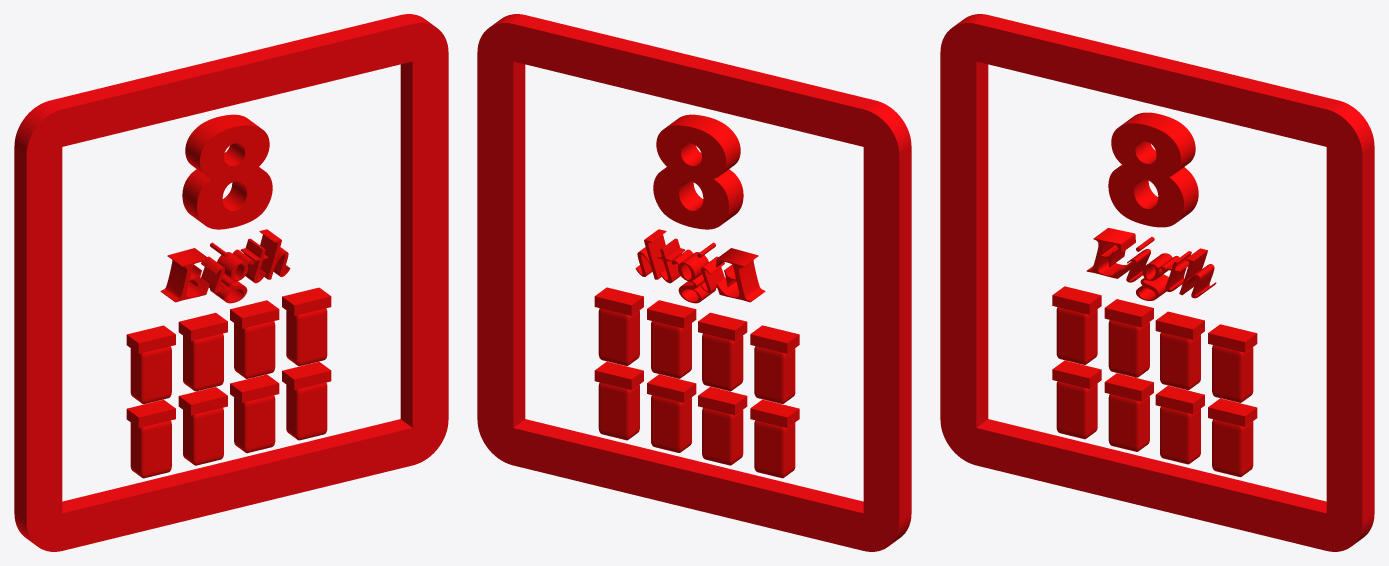
File: Number_8.glb
3 renders of one model, left to right at view 1: azimuth 30°, elevation 25°; view 2: azimuth 150°, elevation 25°; view 3: azimuth 330°, elevation 25°, orthographic.
Visible parts, largest first — view 1: Cube, Text, Text.001, Cube.001, Cube.012, Cube.005, Cube.009, Cube.016, Cube.008, Cube.004, Cube.013, Cube.006 (+7 smaller); view 2: Cube, Text, Text.001, Cube.016, Cube.001, Cube.005, Cube.013, Cube.012, Cube.004, Cube.008, Cube.009, Cube.007 (+7 smaller); view 3: Cube, Text, Text.001, Cube.001, Cube.012, Cube.005, Cube.016, Cube.013, Cube.004, Cube.008, Cube.009, Cube.002 (+7 smaller).
Boxes of the visible parts, x1,y1,x2,y2 form: Cube: [14, 14, 448, 551]; Text: [182, 114, 272, 229]; Text.001: [160, 229, 290, 303]; Cube.001: [130, 346, 171, 404]; Cube.012: [286, 382, 327, 440]; Cube.005: [286, 308, 327, 366]; Cube.009: [234, 395, 275, 453]; Cube.016: [130, 420, 171, 478]; Cube.008: [234, 321, 275, 378]; Cube.004: [183, 333, 223, 391]; Cube.013: [183, 408, 223, 465]; Cube.006: [282, 287, 331, 315]; Cube: [477, 14, 911, 551]; Text: [653, 114, 743, 229]; Text.001: [635, 229, 765, 303]; Cube.016: [754, 420, 795, 478]; Cube.001: [754, 346, 795, 403]; Cube.005: [598, 308, 639, 365]; Cube.013: [702, 407, 743, 465]; Cube.012: [598, 382, 639, 440]; Cube.004: [702, 333, 743, 391]; Cube.008: [651, 321, 691, 378]; Cube.009: [651, 395, 691, 452]; Cube.007: [647, 300, 696, 328]; Cube: [940, 14, 1374, 551]; Text: [1108, 112, 1198, 227]; Text.001: [1086, 228, 1216, 300]; Cube.001: [1056, 307, 1097, 364]; Cube.012: [1212, 419, 1253, 477]; Cube.005: [1212, 345, 1253, 402]; Cube.016: [1056, 381, 1097, 439]; Cube.013: [1108, 394, 1149, 451]; Cube.004: [1108, 320, 1149, 377]; Cube.008: [1160, 332, 1200, 390]; Cube.009: [1160, 406, 1200, 464]; Cube.002: [1052, 286, 1101, 314].
Size of the model in its own units: 2 by 2 by 0.12.
